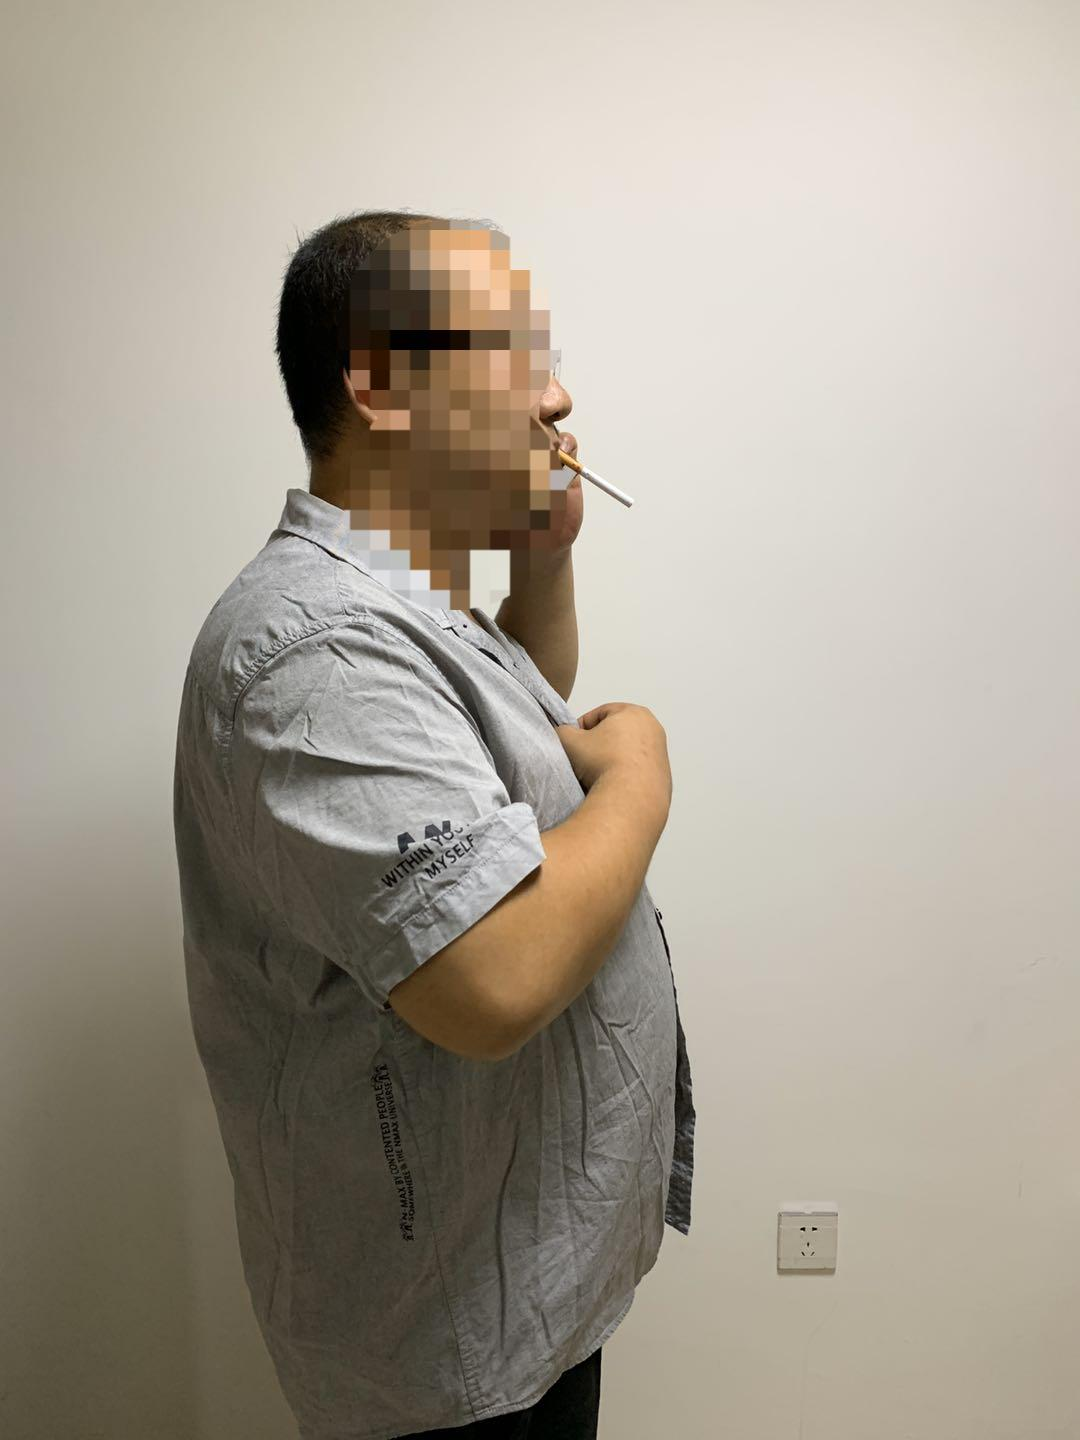smoke: (559, 448, 635, 513)
